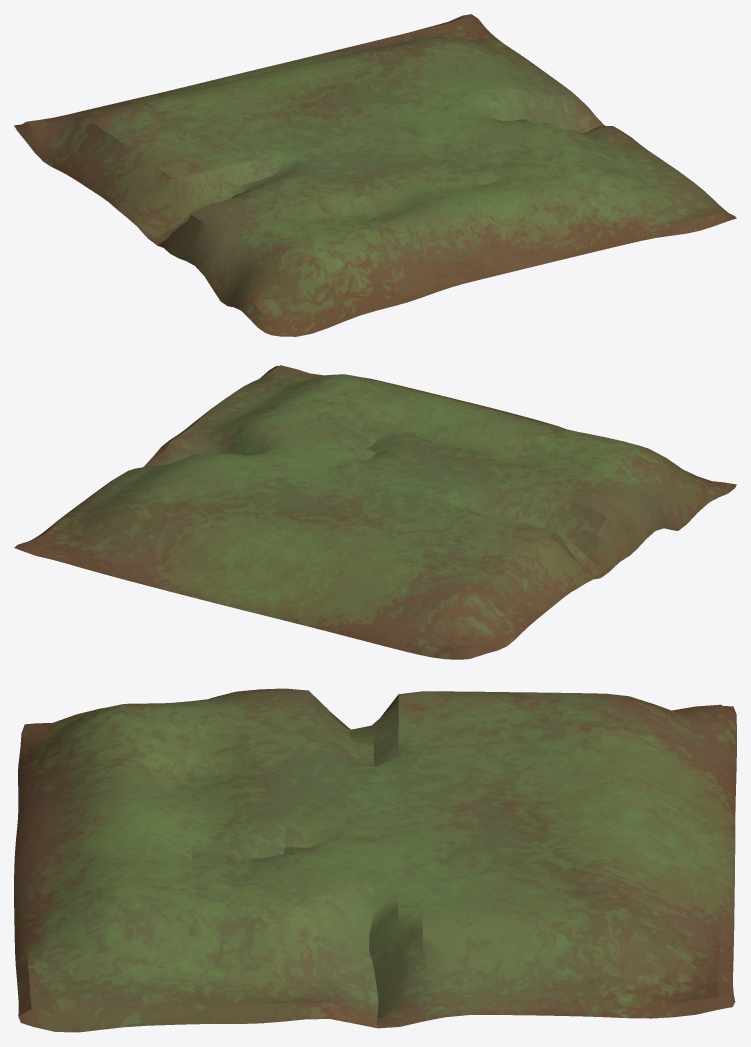
The model's file is Island1.glb.
3 views of the same model, one above another, from view 1: azimuth 30°, elevation 25°; view 2: azimuth 150°, elevation 25°; view 3: azimuth 270°, elevation 25° (orthographic). The views are drawn at different scales.
Visible parts, largest first — view 1: Plane.041; view 2: Plane.041; view 3: Plane.041.
Boxes of the visible parts, <box> form: Plane.041: <box>14,14,736,336</box>; Plane.041: <box>14,365,736,659</box>; Plane.041: <box>14,688,736,1032</box>.
Size of the model in its own units: 592 by 63.59 by 583.
Materials: 1 (1 with a texture image).
